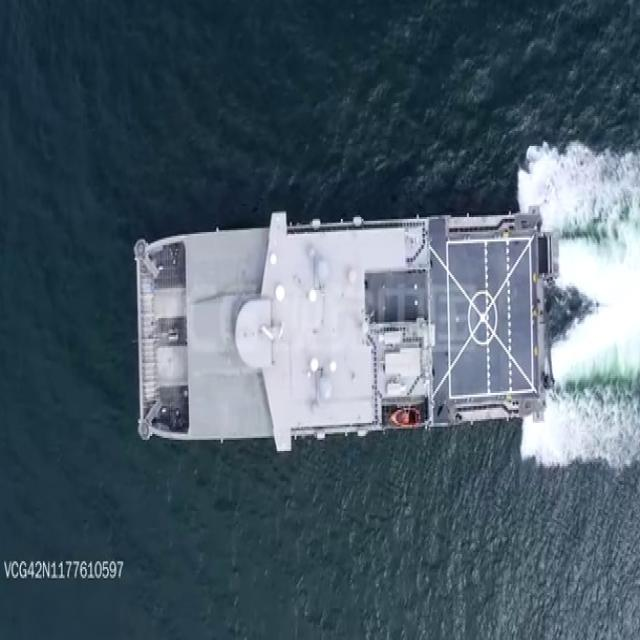navalvessels: (130, 205, 558, 447)
